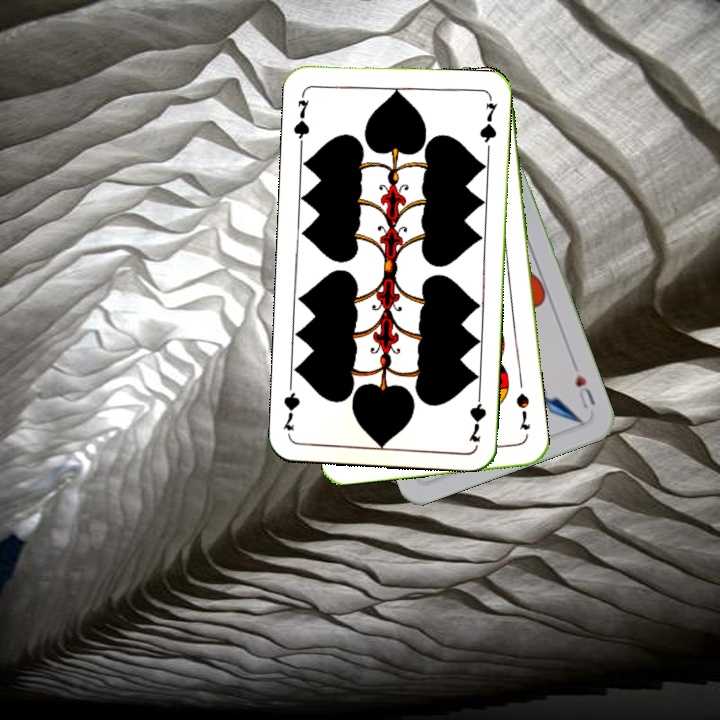G7: (465, 386, 489, 445), (289, 88, 312, 147)
HU: (571, 370, 598, 412)
S7: (512, 389, 533, 432)
